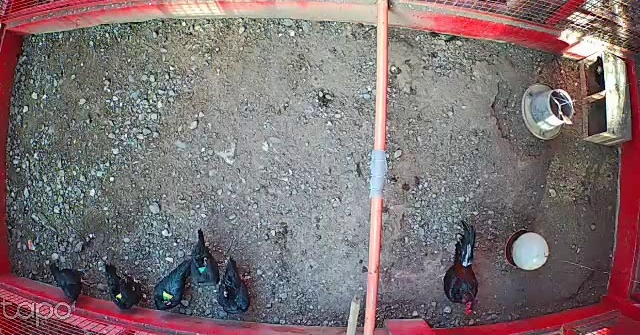Chicken: (45, 260, 97, 307), (100, 261, 146, 311), (216, 256, 253, 318), (153, 256, 193, 311), (189, 225, 221, 287)
Rooster: (439, 219, 486, 320)
Saddle_Color_Green: (198, 265, 207, 273)
Saddle_Color_Yellow: (114, 292, 123, 300)
Saddle_Color_YellowGreen: (160, 289, 173, 303)
